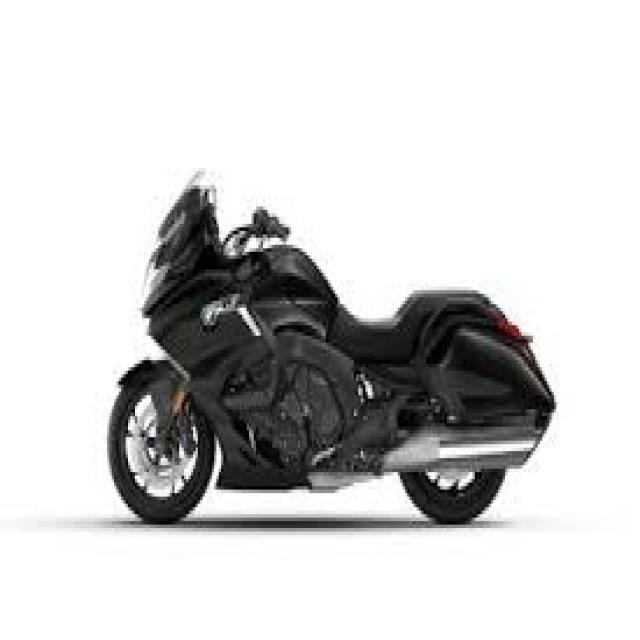Bike: (102, 186, 556, 531)
